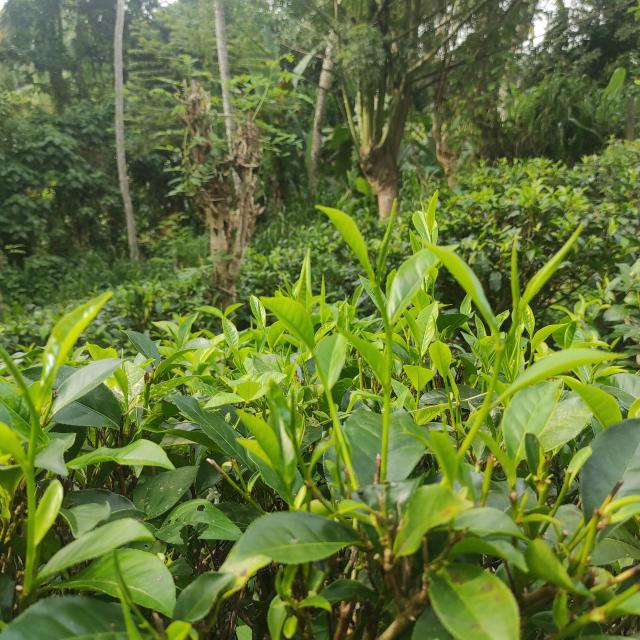unopened_leaf: (0, 338, 40, 413), (374, 191, 404, 280), (504, 225, 528, 317)
